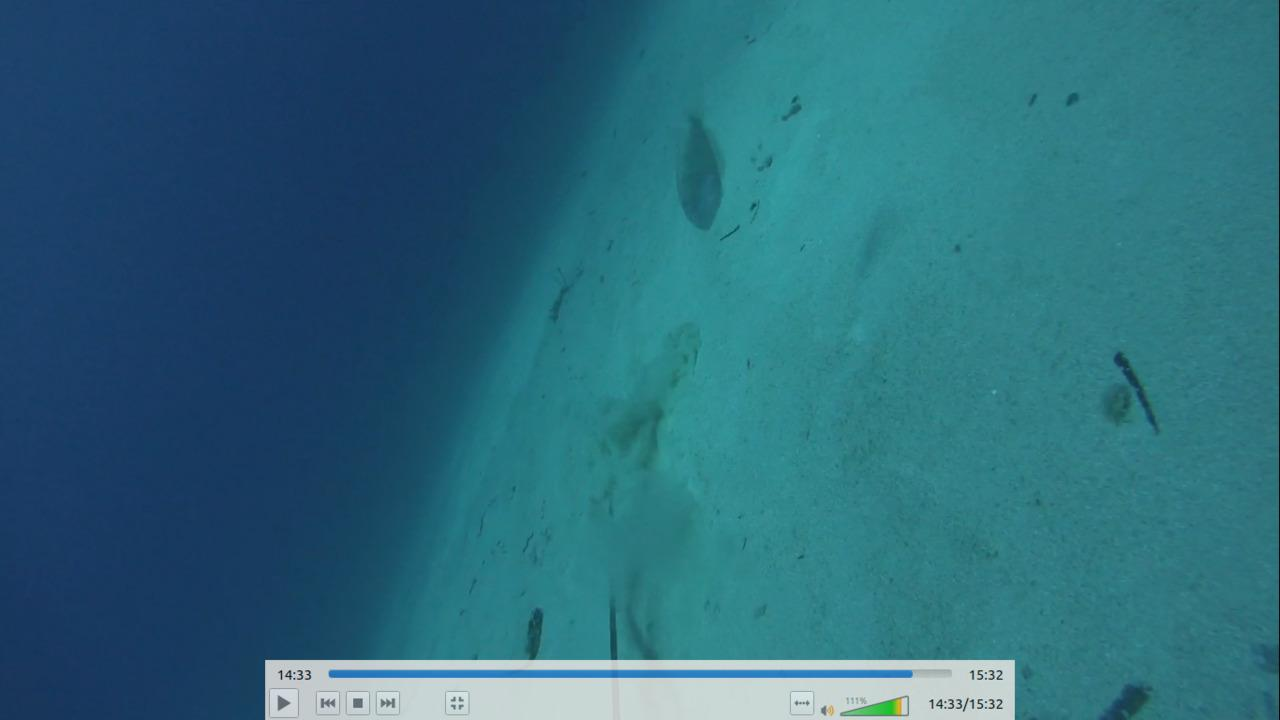raor: (669, 99, 741, 236)
